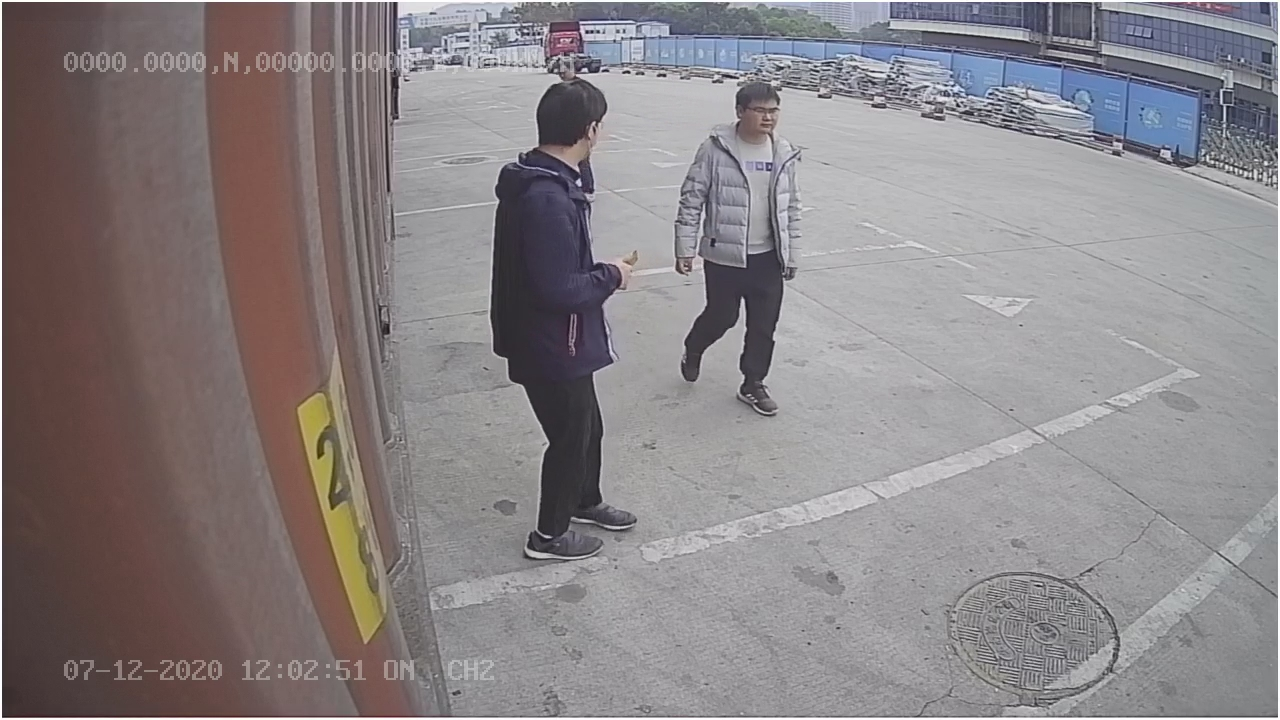person: (486, 78, 640, 558), (675, 80, 807, 419)
